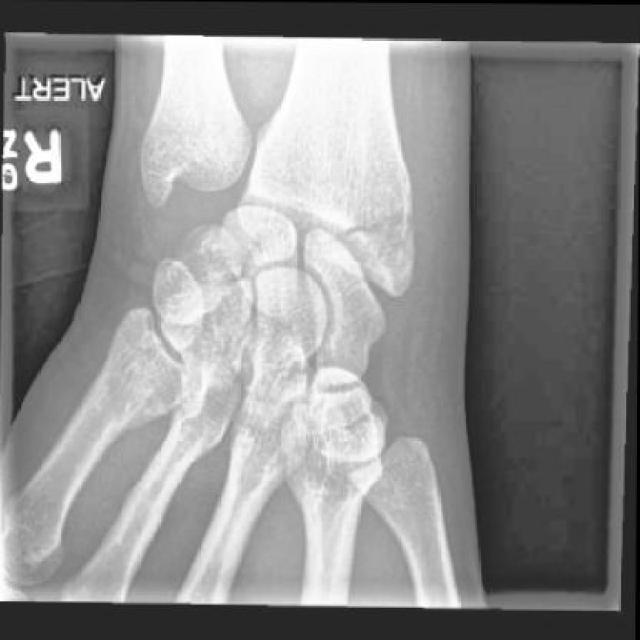bone: (177, 240, 251, 310), (338, 210, 412, 249)
